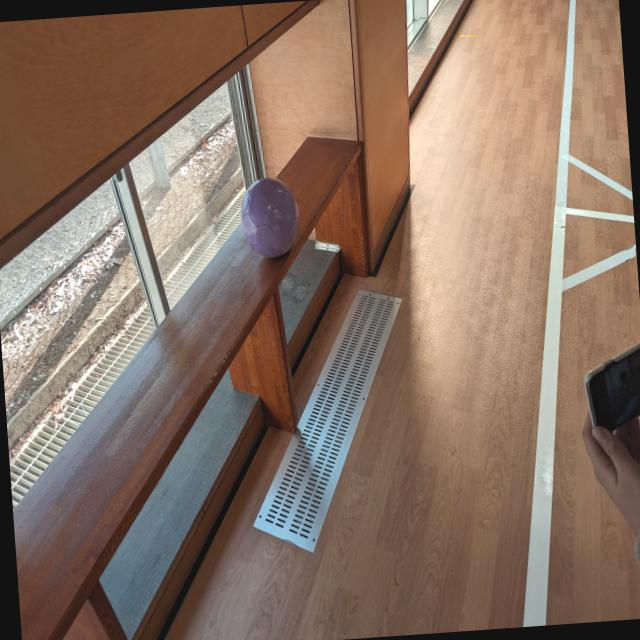purple_ball: (239, 173, 301, 257)
